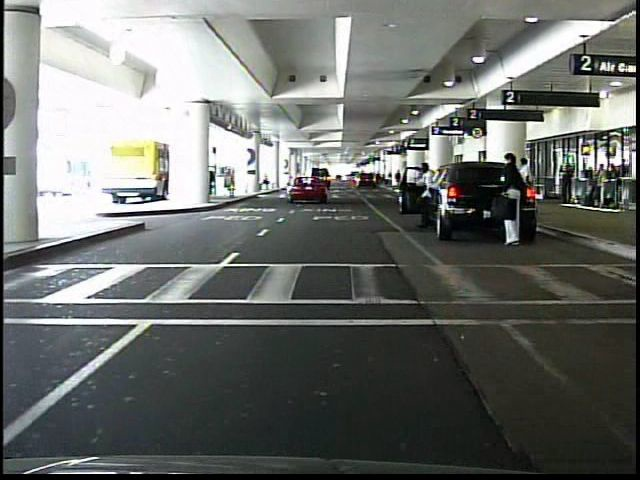person: (499, 154, 532, 253), (416, 159, 439, 232), (516, 155, 537, 215), (560, 160, 573, 204), (394, 170, 404, 190)
